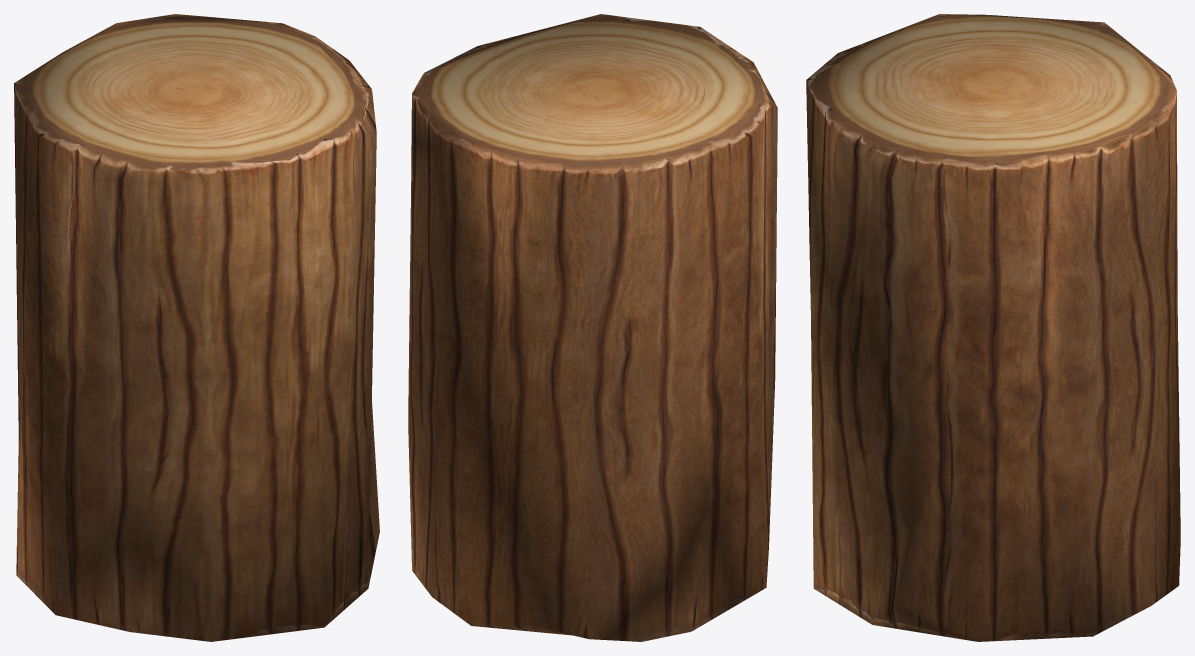
Rendered from Wooden_Illumination_0612215218_texture.fbx.
3 views of the same model, side by side, from view 1: azimuth 30°, elevation 25°; view 2: azimuth 150°, elevation 25°; view 3: azimuth 270°, elevation 25° (orthographic).
Parts seen in each view (by area): view 1: Mesh1; view 2: Mesh1; view 3: Mesh1.
Part boxes in pixels (x1=…): Mesh1: x1=14, y1=14, x2=379, y2=641; Mesh1: x1=408, y1=14, x2=777, y2=641; Mesh1: x1=806, y1=14, x2=1180, y2=641.
Size of the model in its own units: 140 by 200 by 140.
1 material, 1 textured.
